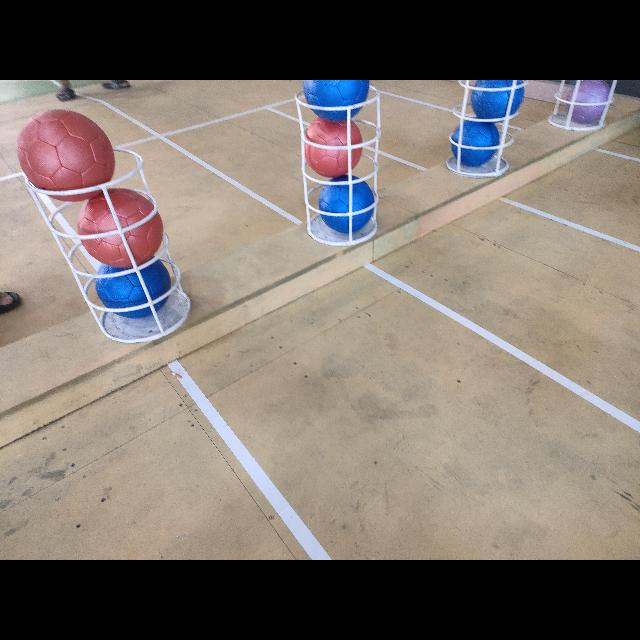B: (94, 266, 170, 318), (318, 174, 374, 233), (302, 80, 370, 118), (453, 118, 499, 168), (472, 80, 524, 118)
R: (15, 108, 114, 202), (78, 191, 164, 265), (302, 118, 364, 174)
